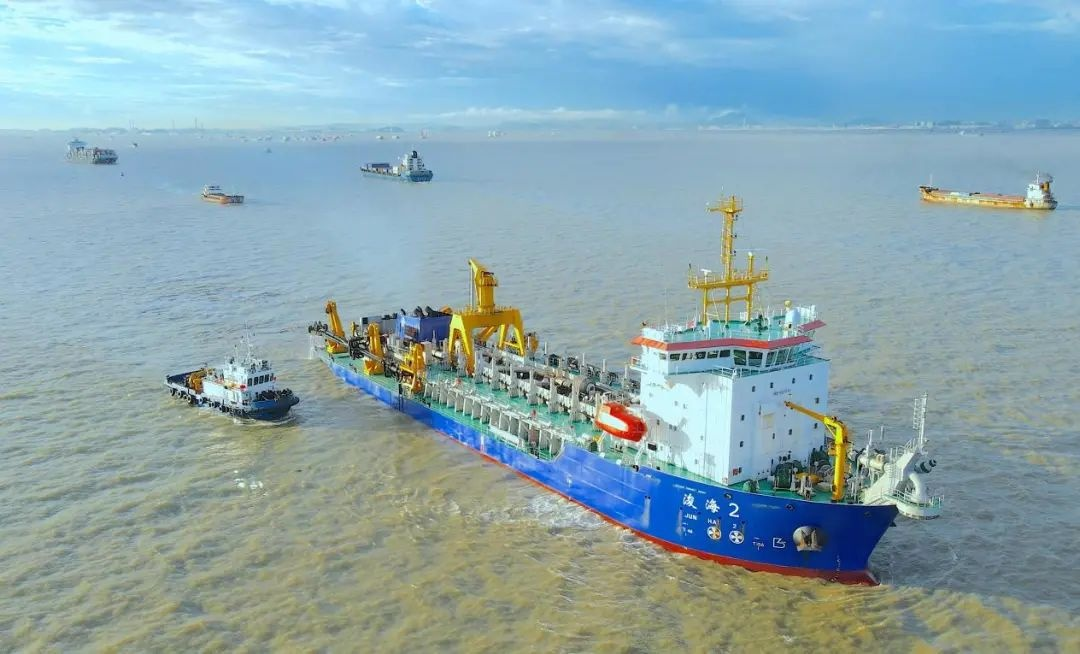Cargoship: (317, 206, 957, 583), (919, 161, 1058, 211), (360, 143, 437, 183), (66, 136, 122, 167), (201, 177, 244, 204)
otherboat: (163, 339, 296, 423)
